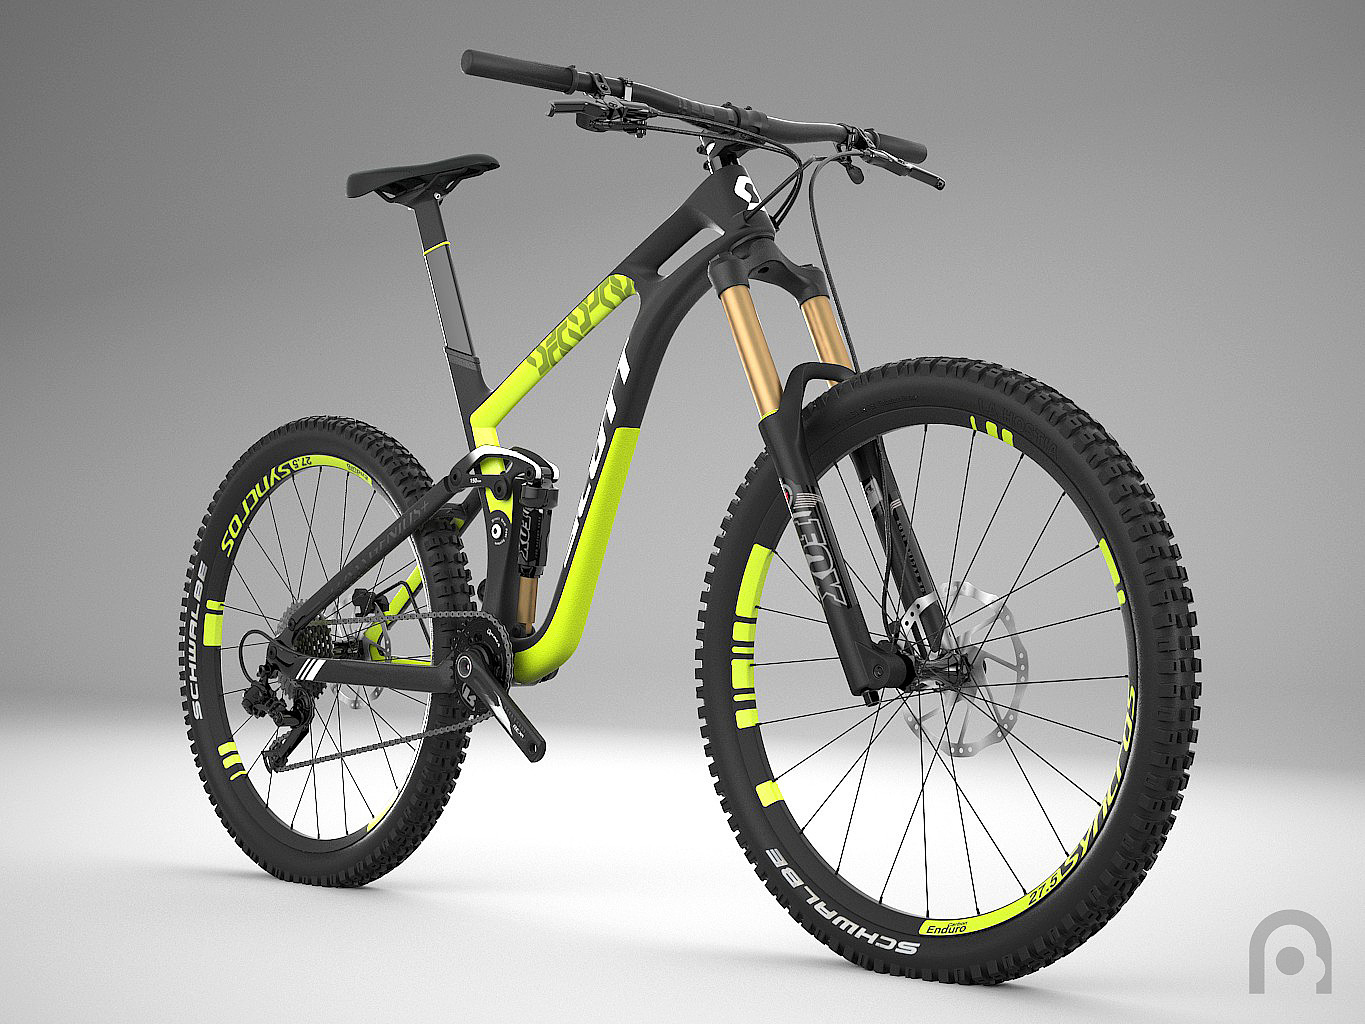MNV: (180, 53, 1194, 984)
